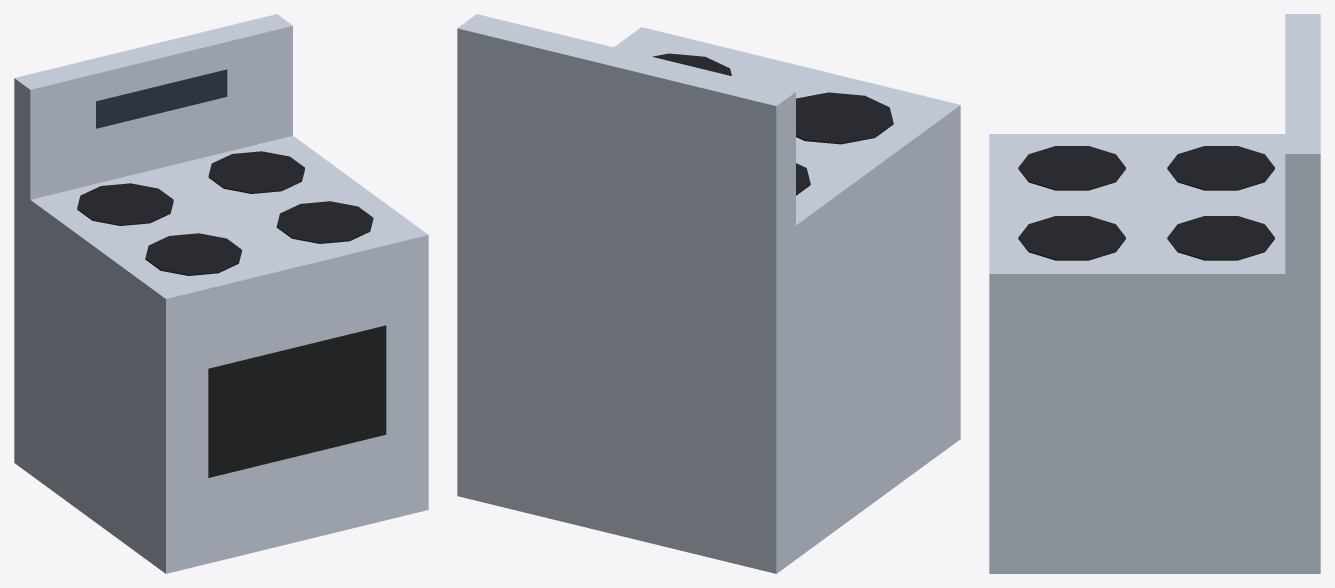
The model's file is oven.glb.
3 views of the same model, side by side, from view 1: azimuth 30°, elevation 25°; view 2: azimuth 150°, elevation 25°; view 3: azimuth 270°, elevation 25° (orthographic). The views are drawn at different scales.
Parts seen in each view (by area): view 1: Cube, Cylinder.003, Cylinder, Cylinder.001, Cylinder.002; view 2: Cube, Cylinder.001, Cylinder.003; view 3: Cube, Cylinder, Cylinder.001, Cylinder.002, Cylinder.003.
Boxes of the visible parts, box(x1,y1,x2,y2) form: Cube: box(14, 14, 428, 573); Cylinder.003: box(276, 201, 373, 243); Cylinder: box(77, 183, 173, 225); Cylinder.001: box(145, 233, 241, 275); Cylinder.002: box(208, 151, 304, 193); Cube: box(457, 14, 960, 573); Cylinder.001: box(796, 92, 893, 144); Cylinder.003: box(652, 53, 731, 75); Cube: box(989, 14, 1320, 573); Cylinder: box(1167, 146, 1274, 190); Cylinder.001: box(1018, 146, 1125, 190); Cylinder.002: box(1167, 216, 1274, 260); Cylinder.003: box(1018, 216, 1125, 260).
Bounding box in the file's own units: 2 × 2.8 × 2.
Materials: 5 (5 with a texture image).
